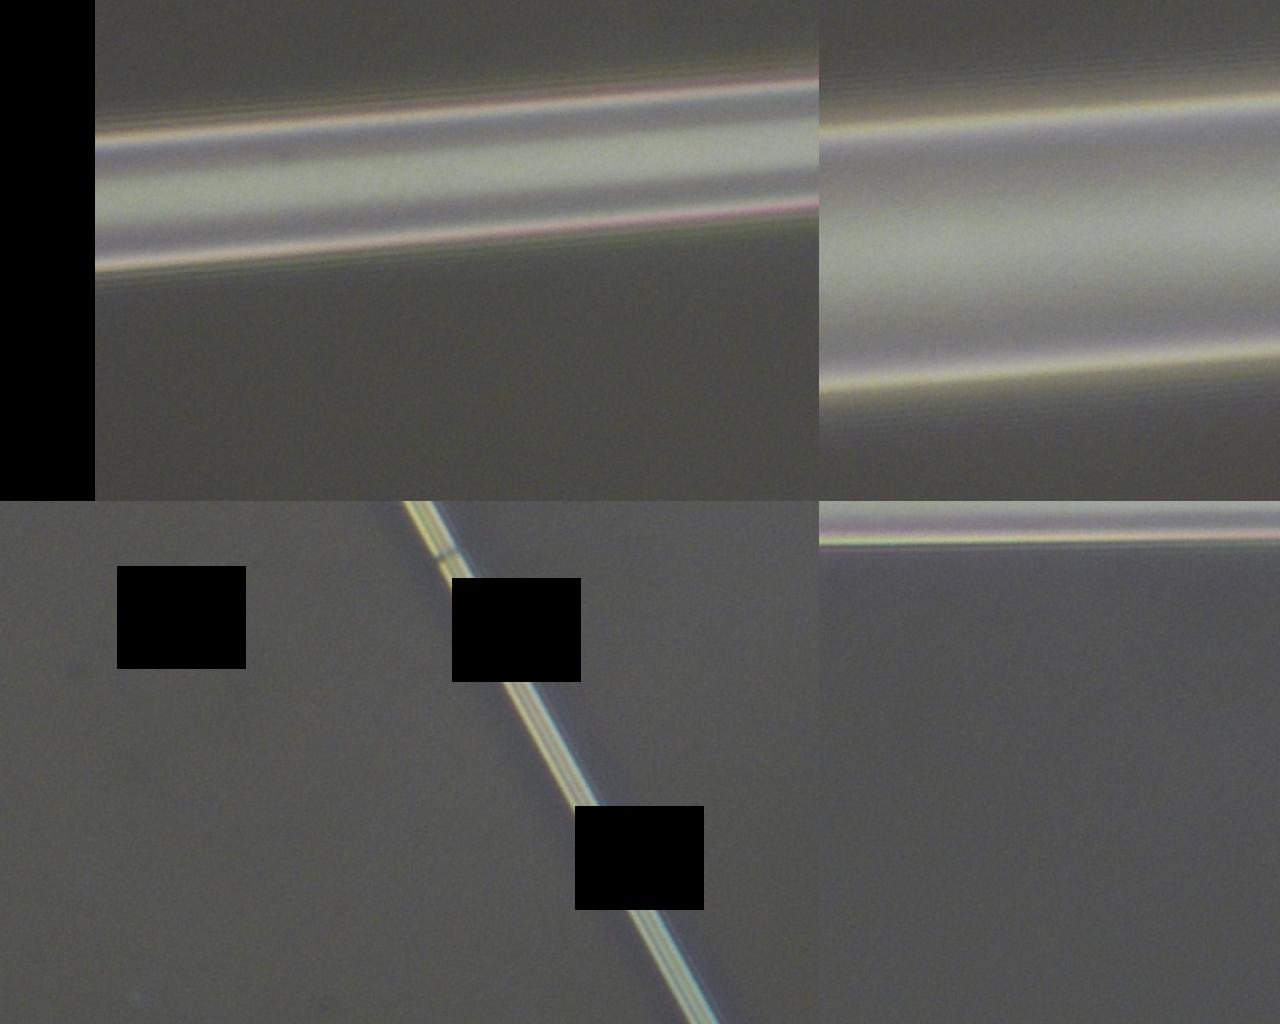fiber: (128, 482, 1152, 696)
